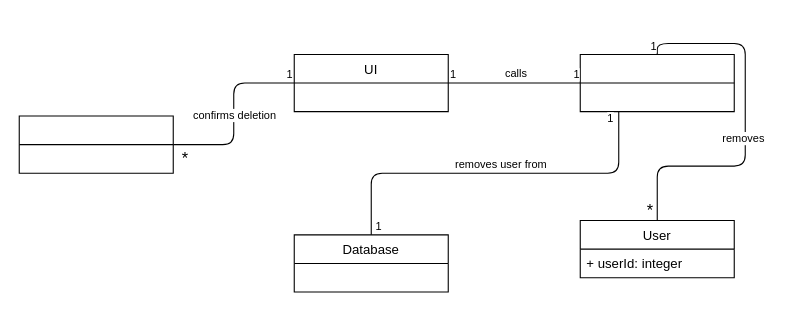
This 795x311 diagram has some shape labels left out. The shapes that lost their labels are listed below. From the top down, each one's centre as x and y in pixels, then its label:
At (x=656, y=82): "API".
At (x=95, y=144): "Administrator".
